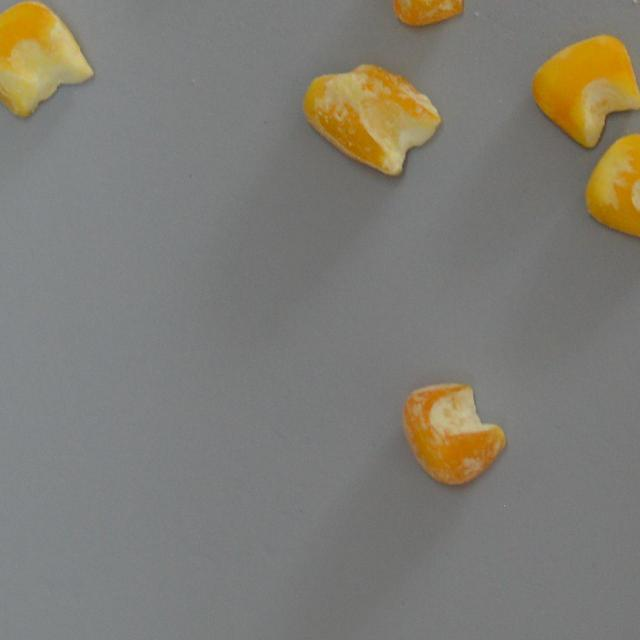dañado: (296, 58, 446, 186), (396, 375, 510, 493), (386, 0, 472, 30)
no_canjicado: (527, 30, 640, 148)
pelicula: (0, 0, 99, 122), (582, 130, 640, 250)
